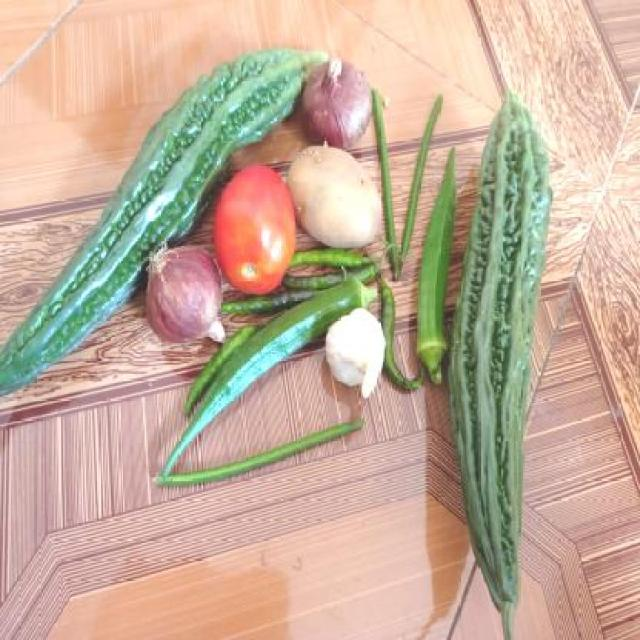Bitter melon: (446, 90, 556, 632)
Garlic: (325, 308, 386, 408)
Lady finger: (411, 142, 466, 390)
Onion: (137, 238, 228, 349), (298, 59, 378, 146)
Potato: (288, 152, 383, 252)
Tomato: (214, 165, 295, 283)
